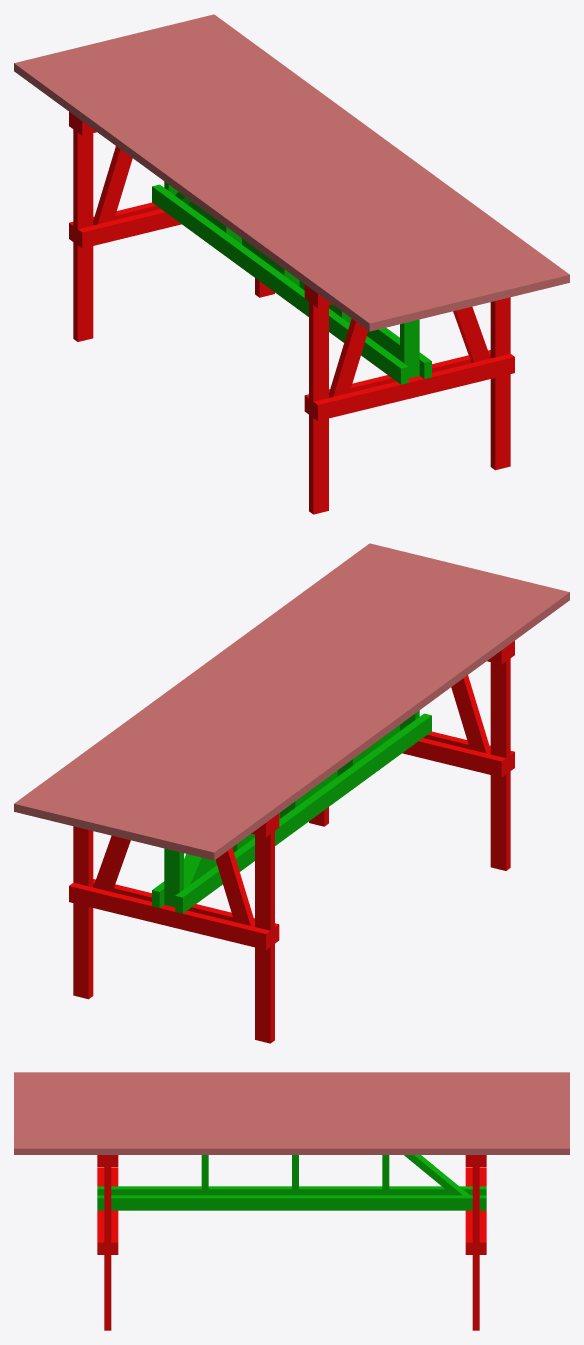
The model's file is result.glb.
The picture shows the model from 3 angles, top to bottom: view 1: azimuth 30°, elevation 25°; view 2: azimuth 150°, elevation 25°; view 3: azimuth 270°, elevation 25°; orthographic projection. The views are drawn at different scales.
Parts seen in each view (by area): view 1: 57de5b80-2aff-44b5-8df9-2216e0fc7752__Box, 6b4fedb0-c017-4ef3-ad5b-4ae7a53f6e7e__undefined, d5cc39b9-6d64-47e0-bb83-241f6d8c1121__undefined, 3755f25c-36ce-4dee-9a67-a7f36f879973__undefined, 19bd2062-f8bb-4811-b3ab-96f17d7972de__undefined, 736d4879-f48f-419c-ac17-bd0da8eb403b__undefined, 1dee92b3-d9fa-4ccd-8322-037e8ca1d972__undefined, 0cf1f69a-20fa-43bf-ae5f-da148dcb1b06__undefined, 5f3ff399-720f-4e25-9fad-a72bd12d5b6e__undefined, ec37bdb6-6d47-499f-8de8-46ef89bfa200__undefined, 9cd16f64-0b45-4f74-aac4-eb0b4836e71d__undefined, 066b7f9b-81f3-45c8-9a69-06934e1dace3__undefined (+13 smaller); view 2: 57de5b80-2aff-44b5-8df9-2216e0fc7752__Box, 6b4fedb0-c017-4ef3-ad5b-4ae7a53f6e7e__undefined, d5cc39b9-6d64-47e0-bb83-241f6d8c1121__undefined, 3755f25c-36ce-4dee-9a67-a7f36f879973__undefined, 19bd2062-f8bb-4811-b3ab-96f17d7972de__undefined, 736d4879-f48f-419c-ac17-bd0da8eb403b__undefined, 1dee92b3-d9fa-4ccd-8322-037e8ca1d972__undefined, 0cf1f69a-20fa-43bf-ae5f-da148dcb1b06__undefined, 5f3ff399-720f-4e25-9fad-a72bd12d5b6e__undefined, ec37bdb6-6d47-499f-8de8-46ef89bfa200__undefined, 9cd16f64-0b45-4f74-aac4-eb0b4836e71d__undefined, 066b7f9b-81f3-45c8-9a69-06934e1dace3__undefined (+13 smaller); view 3: 0cf1f69a-20fa-43bf-ae5f-da148dcb1b06__undefined, 63c1959a-2ba0-4f7f-a16e-8de0a69e5709__strutH, 19bd2062-f8bb-4811-b3ab-96f17d7972de__undefined, d5cc39b9-6d64-47e0-bb83-241f6d8c1121__undefined, d07b0b1e-37dc-43af-9a8c-e39e120423e1__undefined, 736d4879-f48f-419c-ac17-bd0da8eb403b__undefined, f318dd0b-8c6b-4f5f-a4fd-34baae4f378b__strutH, 57de5b80-2aff-44b5-8df9-2216e0fc7752__Box, 5f3ff399-720f-4e25-9fad-a72bd12d5b6e__undefined, 3755f25c-36ce-4dee-9a67-a7f36f879973__undefined, ec37bdb6-6d47-499f-8de8-46ef89bfa200__undefined, 1dee92b3-d9fa-4ccd-8322-037e8ca1d972__undefined (+10 smaller).
Boxes of the visible parts, x1=… form: 57de5b80-2aff-44b5-8df9-2216e0fc7752__Box: x1=14, y1=59, x2=384, y2=331; 6b4fedb0-c017-4ef3-ad5b-4ae7a53f6e7e__undefined: x1=168, y1=22, x2=539, y2=293; d5cc39b9-6d64-47e0-bb83-241f6d8c1121__undefined: x1=91, y1=40, x2=462, y2=312; 3755f25c-36ce-4dee-9a67-a7f36f879973__undefined: x1=45, y1=52, x2=415, y2=323; 19bd2062-f8bb-4811-b3ab-96f17d7972de__undefined: x1=76, y1=44, x2=446, y2=316; 736d4879-f48f-419c-ac17-bd0da8eb403b__undefined: x1=122, y1=33, x2=492, y2=304; 1dee92b3-d9fa-4ccd-8322-037e8ca1d972__undefined: x1=137, y1=29, x2=508, y2=301; 0cf1f69a-20fa-43bf-ae5f-da148dcb1b06__undefined: x1=199, y1=14, x2=569, y2=286; 5f3ff399-720f-4e25-9fad-a72bd12d5b6e__undefined: x1=29, y1=55, x2=400, y2=327; ec37bdb6-6d47-499f-8de8-46ef89bfa200__undefined: x1=61, y1=48, x2=431, y2=320; 9cd16f64-0b45-4f74-aac4-eb0b4836e71d__undefined: x1=153, y1=25, x2=523, y2=297; 066b7f9b-81f3-45c8-9a69-06934e1dace3__undefined: x1=184, y1=18, x2=554, y2=289; 57de5b80-2aff-44b5-8df9-2216e0fc7752__Box: x1=199, y1=588, x2=569, y2=860; 6b4fedb0-c017-4ef3-ad5b-4ae7a53f6e7e__undefined: x1=44, y1=551, x2=415, y2=822; d5cc39b9-6d64-47e0-bb83-241f6d8c1121__undefined: x1=121, y1=569, x2=492, y2=841; 3755f25c-36ce-4dee-9a67-a7f36f879973__undefined: x1=168, y1=581, x2=538, y2=852; 19bd2062-f8bb-4811-b3ab-96f17d7972de__undefined: x1=137, y1=573, x2=507, y2=845; 736d4879-f48f-419c-ac17-bd0da8eb403b__undefined: x1=91, y1=562, x2=461, y2=833; 1dee92b3-d9fa-4ccd-8322-037e8ca1d972__undefined: x1=75, y1=558, x2=446, y2=830; 0cf1f69a-20fa-43bf-ae5f-da148dcb1b06__undefined: x1=14, y1=543, x2=384, y2=815; 5f3ff399-720f-4e25-9fad-a72bd12d5b6e__undefined: x1=183, y1=584, x2=554, y2=856; ec37bdb6-6d47-499f-8de8-46ef89bfa200__undefined: x1=152, y1=577, x2=522, y2=849; 9cd16f64-0b45-4f74-aac4-eb0b4836e71d__undefined: x1=60, y1=554, x2=430, y2=826; 066b7f9b-81f3-45c8-9a69-06934e1dace3__undefined: x1=29, y1=547, x2=399, y2=818; 0cf1f69a-20fa-43bf-ae5f-da148dcb1b06__undefined: x1=14, y1=1142, x2=569, y2=1154; 63c1959a-2ba0-4f7f-a16e-8de0a69e5709__strutH: x1=97, y1=1195, x2=486, y2=1210; 19bd2062-f8bb-4811-b3ab-96f17d7972de__undefined: x1=14, y1=1095, x2=569, y2=1101; d5cc39b9-6d64-47e0-bb83-241f6d8c1121__undefined: x1=14, y1=1101, x2=569, y2=1107; d07b0b1e-37dc-43af-9a8c-e39e120423e1__undefined: x1=14, y1=1107, x2=569, y2=1113; 736d4879-f48f-419c-ac17-bd0da8eb403b__undefined: x1=14, y1=1113, x2=569, y2=1119; f318dd0b-8c6b-4f5f-a4fd-34baae4f378b__strutH: x1=97, y1=1186, x2=486, y2=1195; 57de5b80-2aff-44b5-8df9-2216e0fc7752__Box: x1=14, y1=1072, x2=569, y2=1077; 5f3ff399-720f-4e25-9fad-a72bd12d5b6e__undefined: x1=14, y1=1078, x2=569, y2=1083; 3755f25c-36ce-4dee-9a67-a7f36f879973__undefined: x1=14, y1=1084, x2=569, y2=1089; ec37bdb6-6d47-499f-8de8-46ef89bfa200__undefined: x1=14, y1=1090, x2=569, y2=1095; 1dee92b3-d9fa-4ccd-8322-037e8ca1d972__undefined: x1=14, y1=1119, x2=569, y2=1124.
Bounding box in the file's own units: 650 × 725 × 2000.
